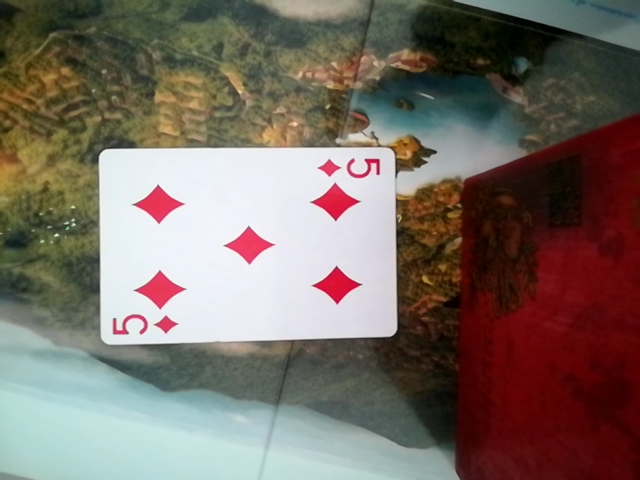fk 5: (88, 144, 402, 352)
